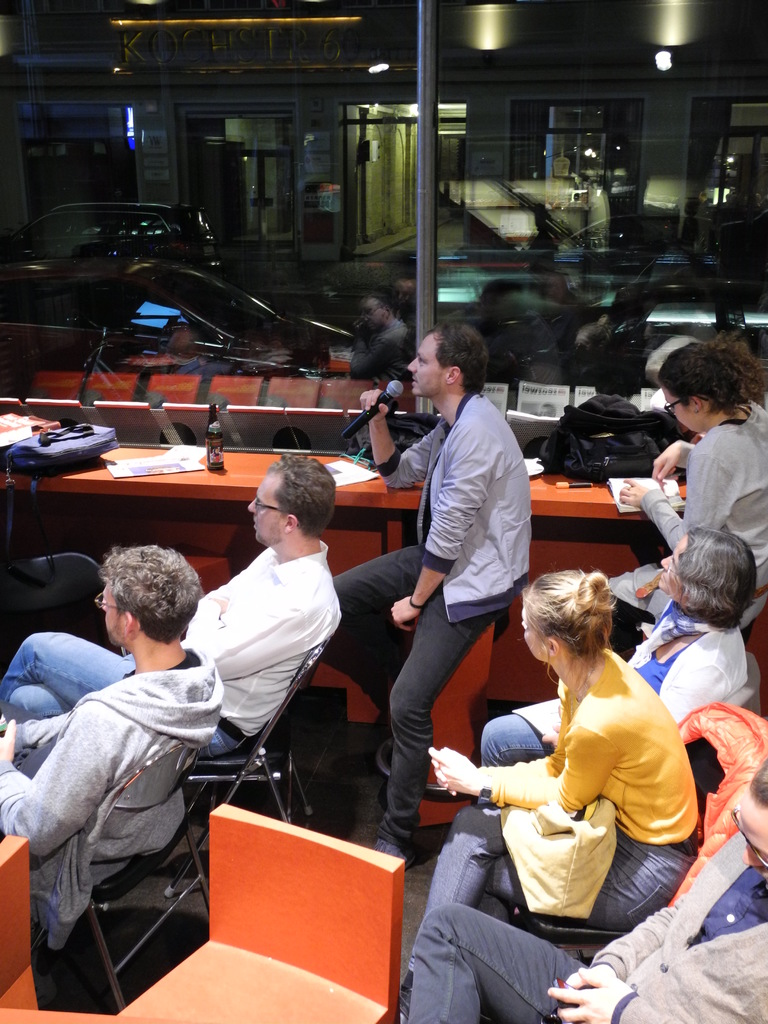Car: (0, 252, 357, 385), (1, 199, 225, 280), (638, 306, 767, 369)
